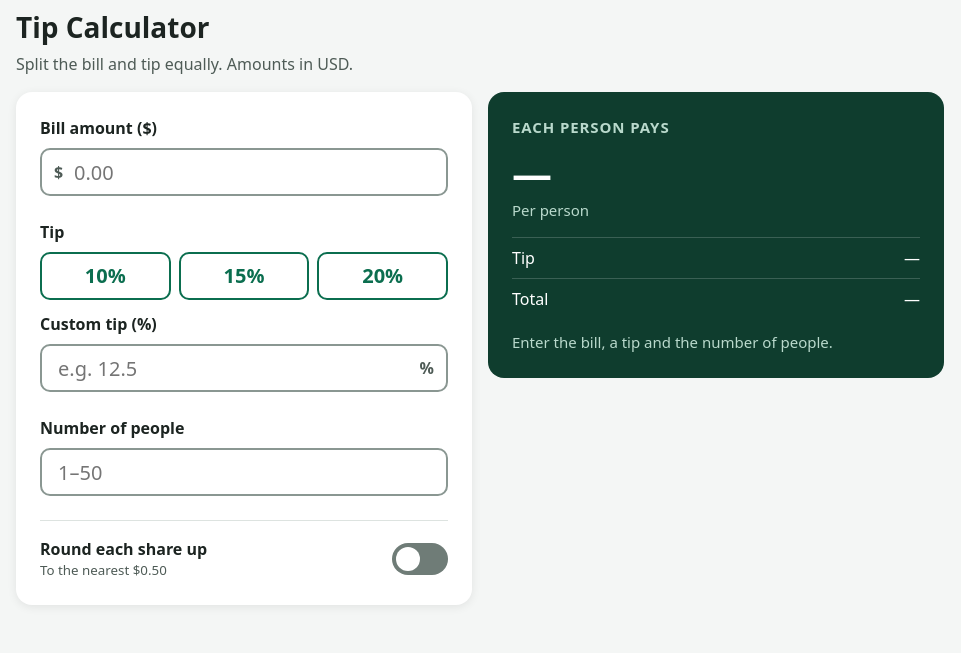
Test: S5: Clear messages instead of broken results › correcting the field removes the message and updates the results
This screenshot has width=961, height=653.
Type "85.40" into the field labelled "Bill amount ($)" at {"x": 244, "y": 172}, box x1=40 y1=148 x2=448 y2=196
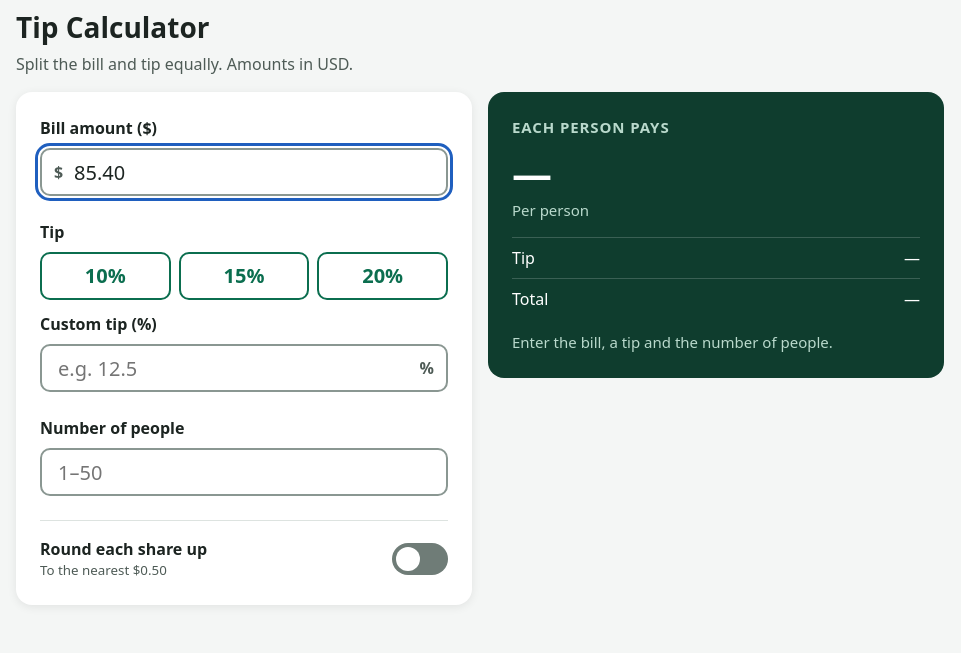
Click the button "20%" at {"x": 383, "y": 276}, box x1=317 y1=252 x2=448 y2=300
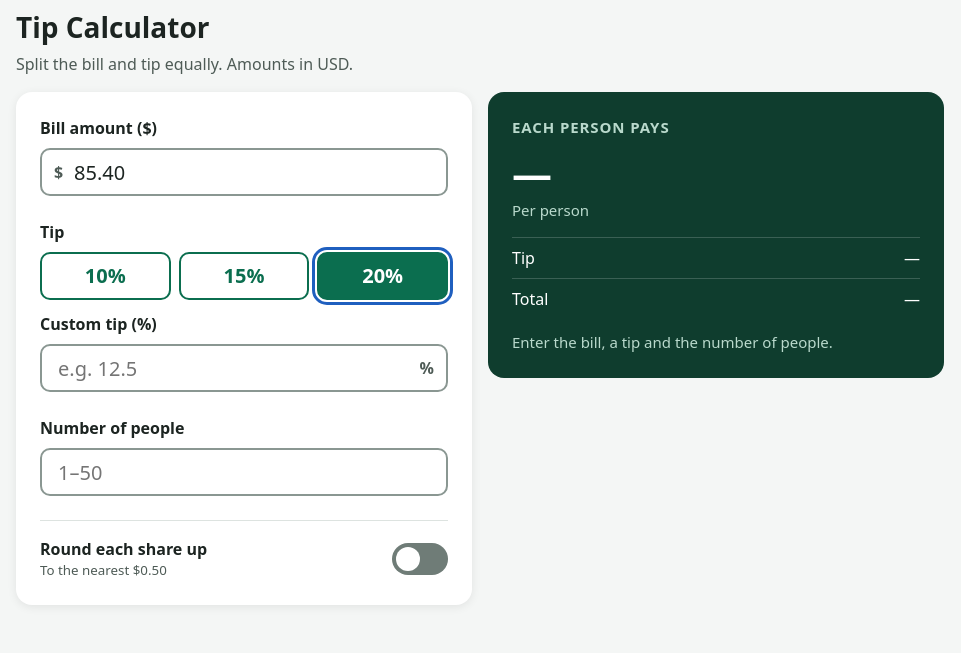
Type "0" into the field labelled "Number of people" at {"x": 244, "y": 472}, box x1=40 y1=448 x2=448 y2=496
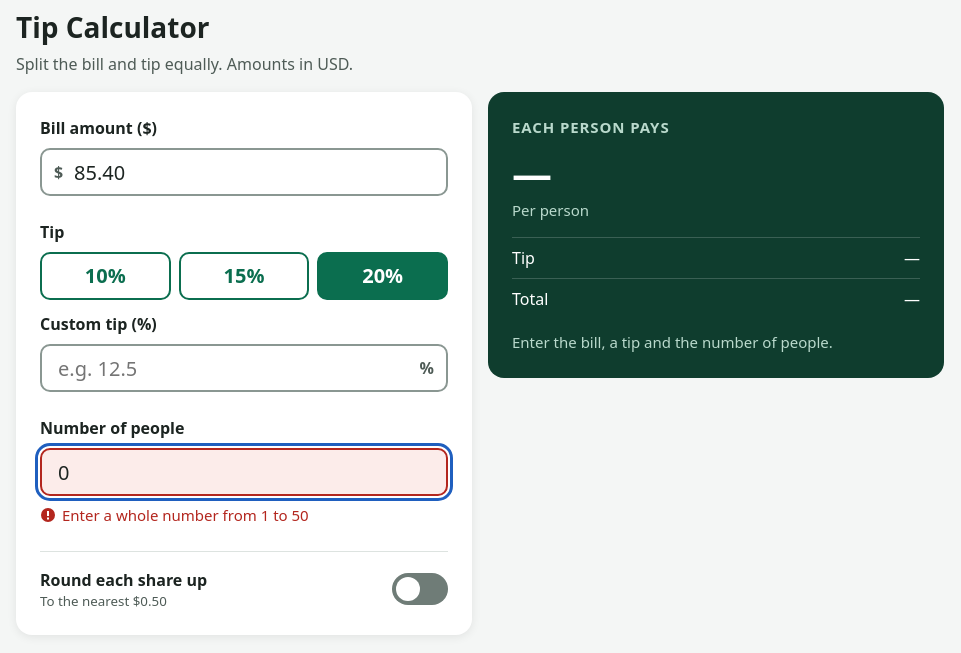
Expected: the element showing "Enter a whole number from 1 to 50" is shown, x1=40 y1=505 x2=309 y2=525
Replace the text in the field labelled "Number of people" with "3" at {"x": 244, "y": 472}, box x1=40 y1=448 x2=448 y2=496
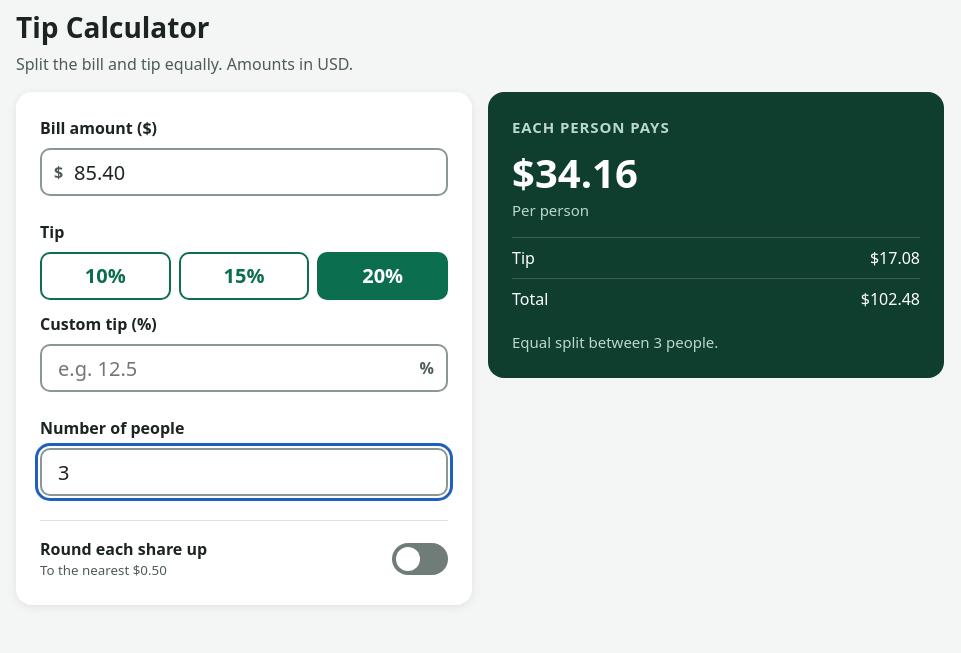
Expected: the text "Enter a whole number from 1 to 50" is gone
